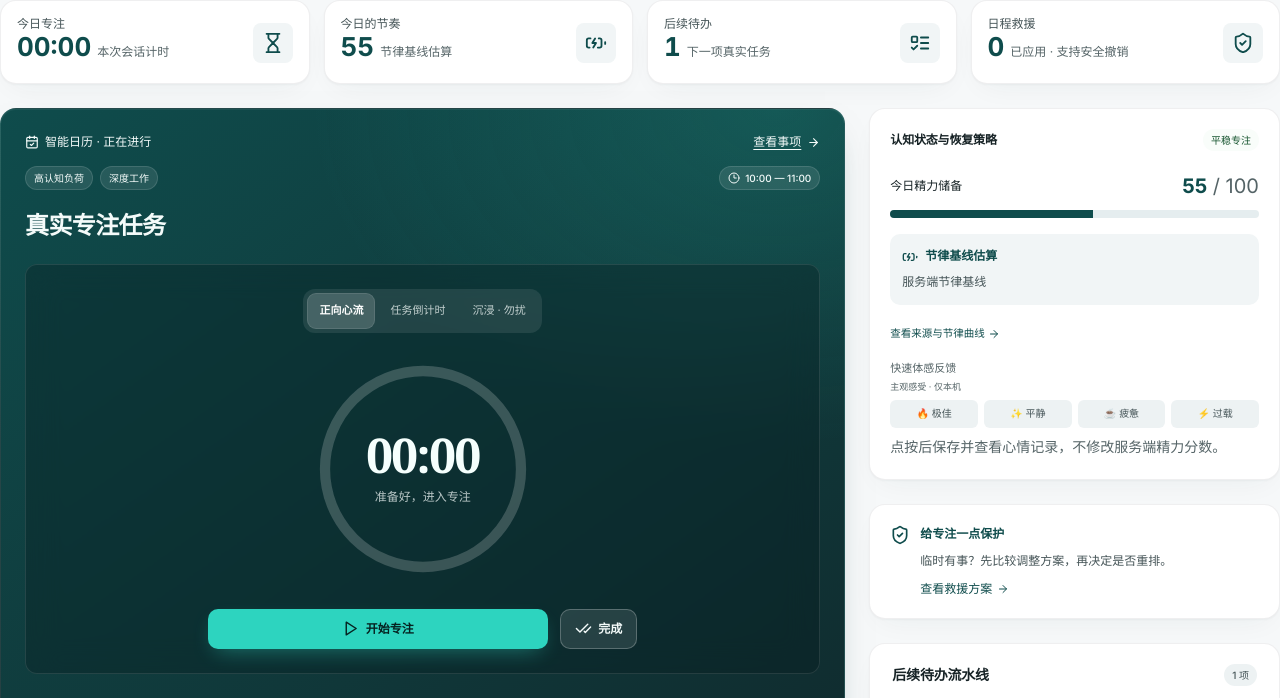
Test case: restored local focus tools › offers a reversible local immersion view while preserving the existing task timer
Expected: the heading "真实专注任务" is shown, [25,211,165,240]
Click the button "沉浸 · 勿扰" at (499, 311), box [460,293,538,329]
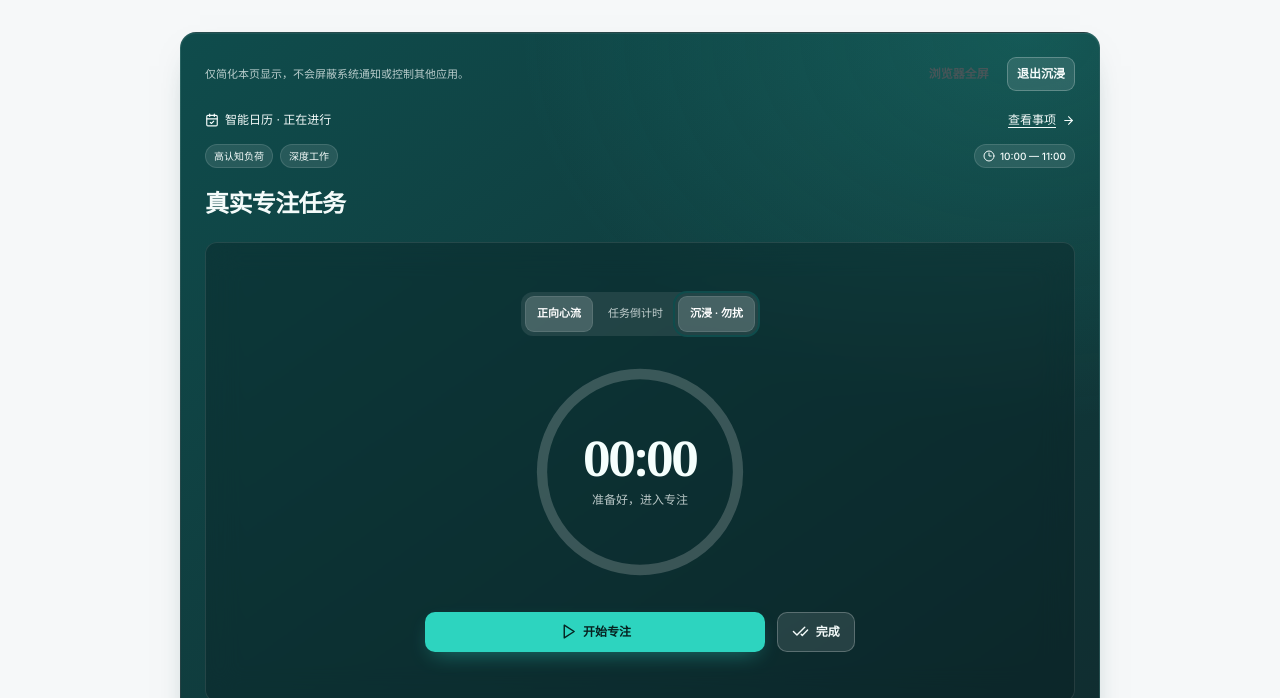
Expected: the text "00:00" is shown, [583,434,697,482]
Expected: the text "仅简化本页显示，不会屏蔽系统通知或控制其他应用。" is shown, [205,65,469,83]
Click the button "退出沉浸" at (1041, 74), box [1007,57,1075,91]
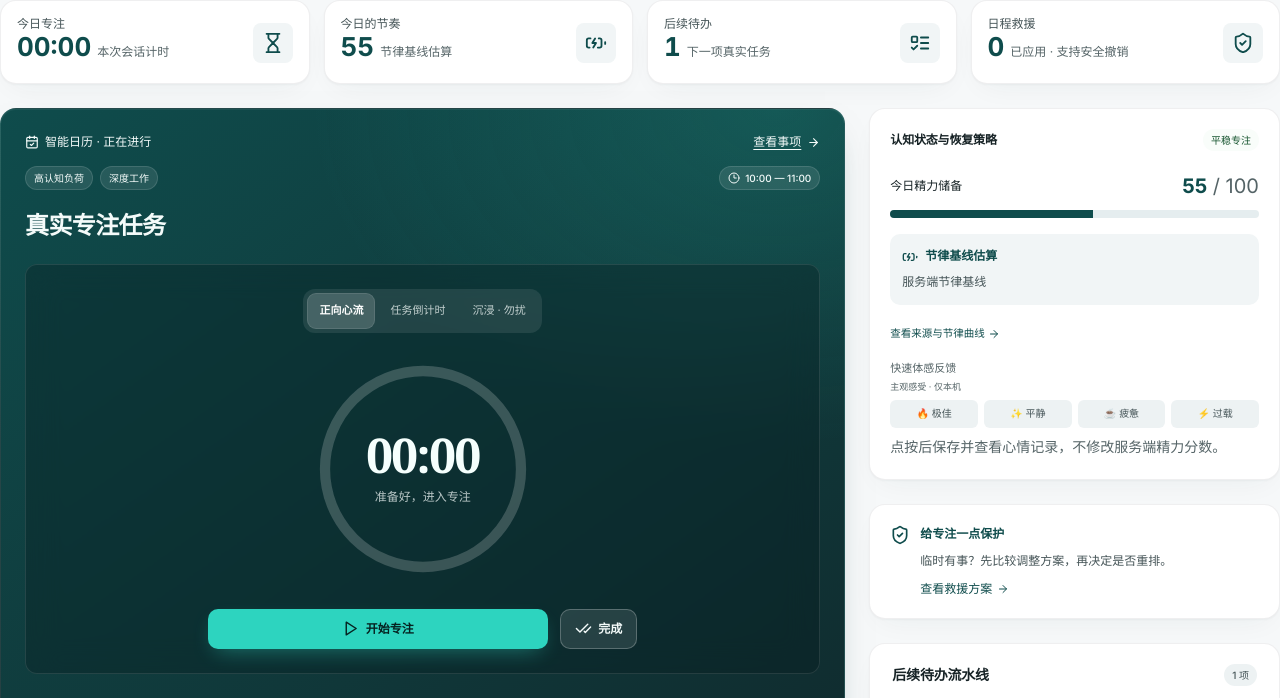
Expected: the button "退出沉浸" is gone
